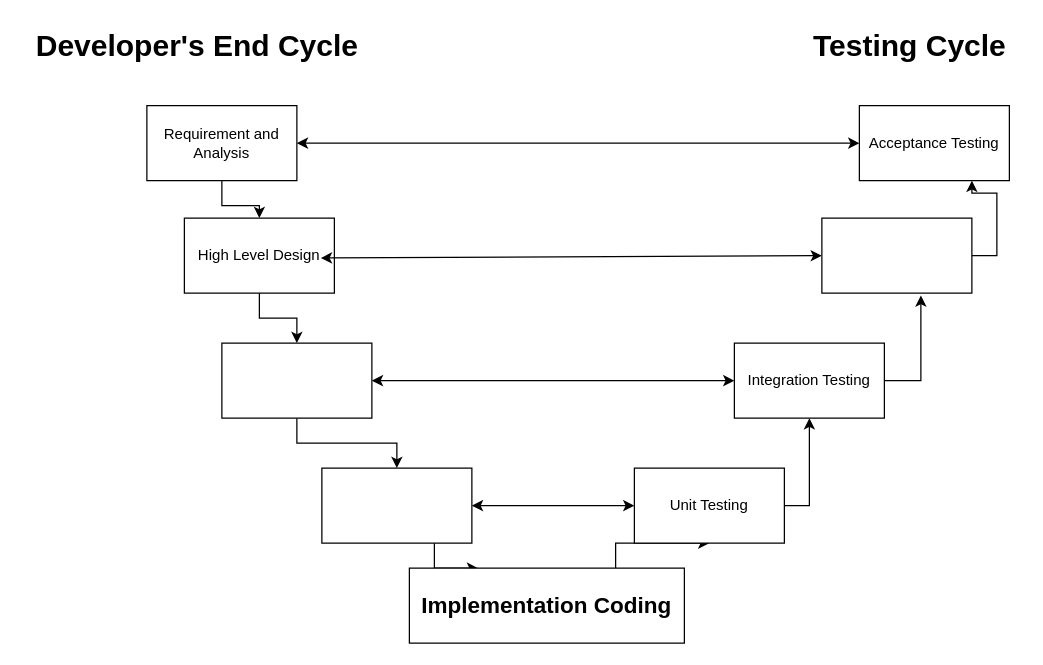
The diagram is 1043 pixels wide and 665 high, and some of its shapes have lost their labels. The centre of each missing label's shape, as x and y in pixels:
Low level design: the point at 396,505
System testing: the point at 896,255
UI and UX Design: the point at 296,380
